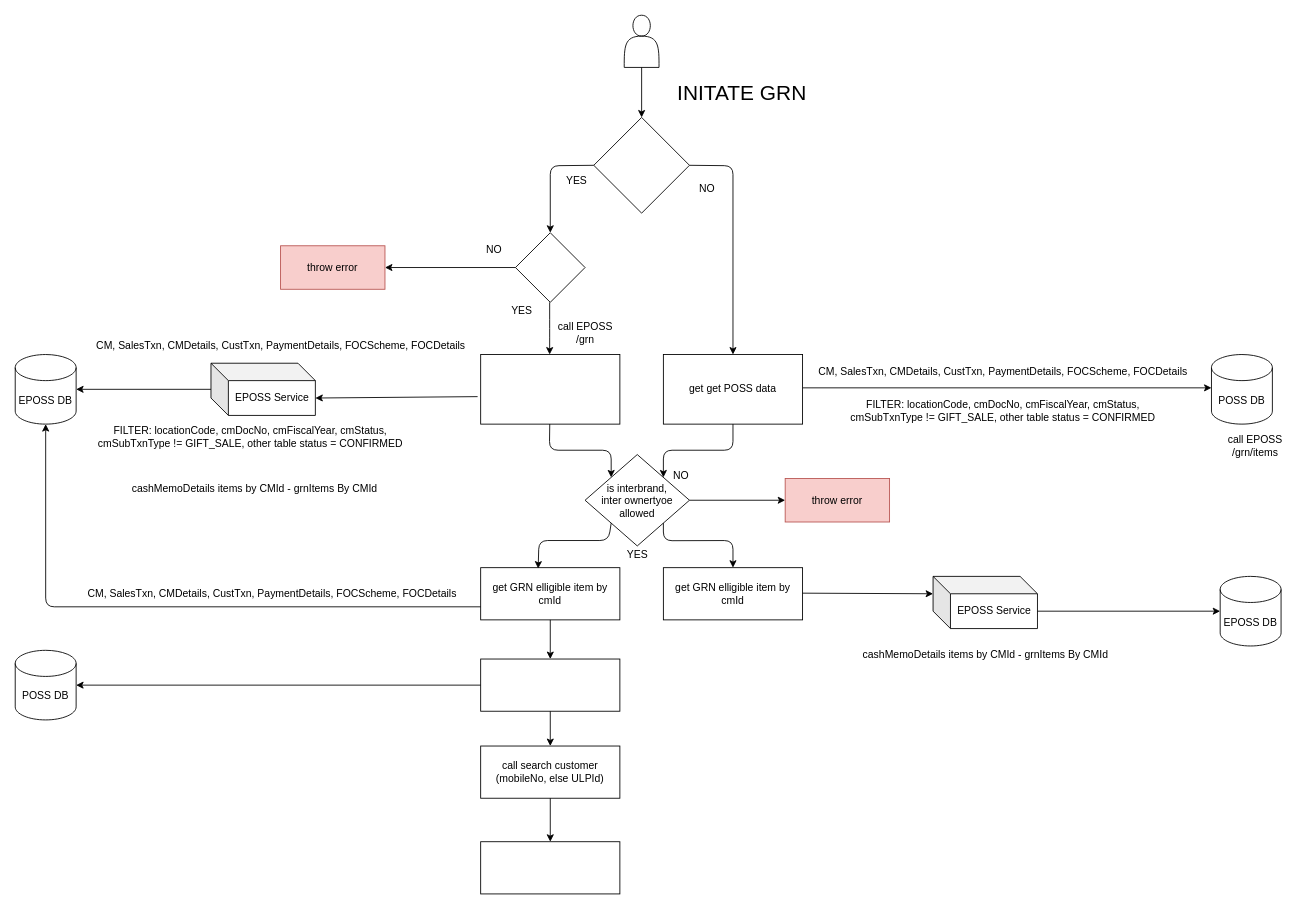
Image size: 1305x909. Some labels were removed from this diagram. Each missing label, with the centre of its shape:
get get EPOSS data: [550,389]
is interbtq allowed: [550,267]
is same store?: [641,165]
save EPOSS data: [550,684]
send required fields in response (filter by GRN elligible items): [550,867]
